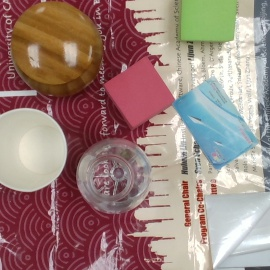bottle: (76, 138, 153, 212)
card: (174, 76, 259, 171)
chess: (11, 3, 101, 96)
cup: (1, 108, 67, 192)
